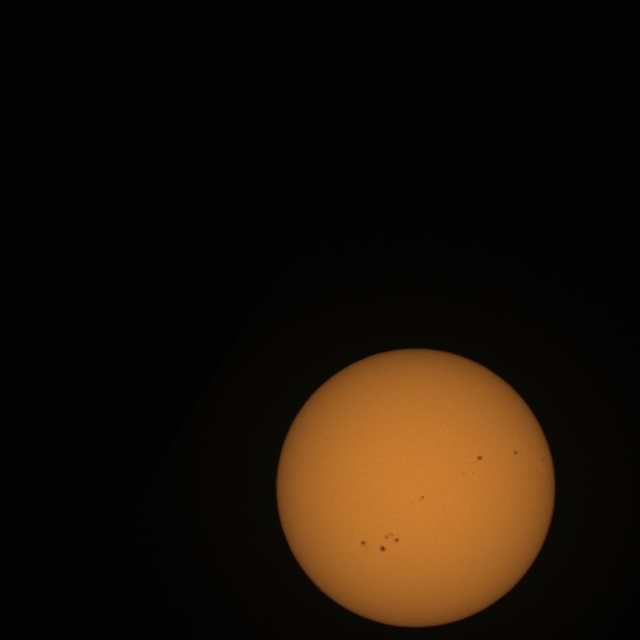sunspot: (379, 532, 401, 551), (461, 466, 478, 477), (407, 495, 425, 505), (385, 533, 400, 544), (378, 544, 387, 552), (360, 539, 368, 548), (475, 455, 483, 462), (512, 449, 519, 456), (408, 500, 414, 506), (419, 495, 425, 501), (540, 456, 546, 461), (461, 471, 467, 476)
